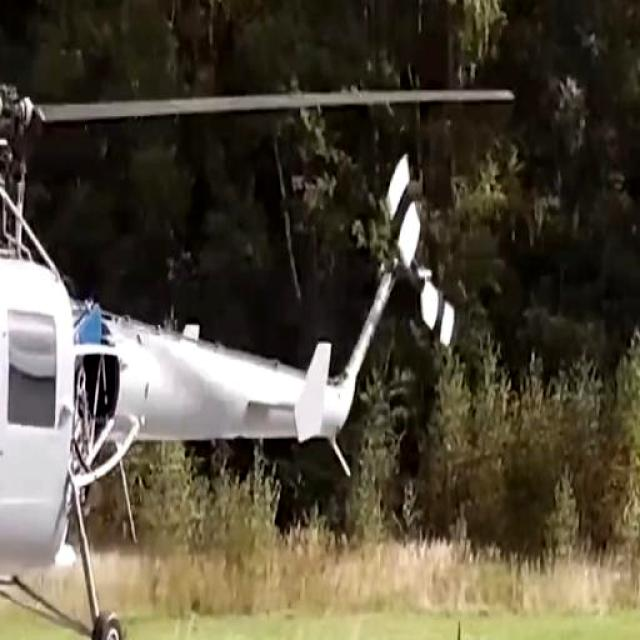drone: (0, 12, 454, 640)
